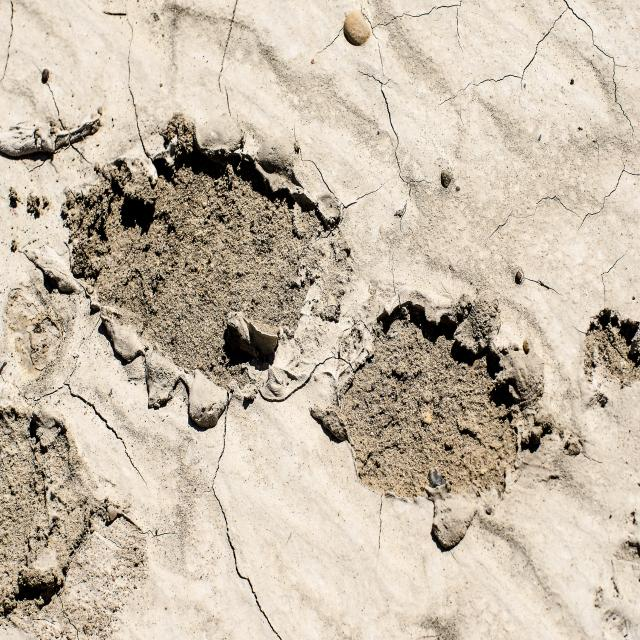human_foot_print: (64, 89, 572, 548)
